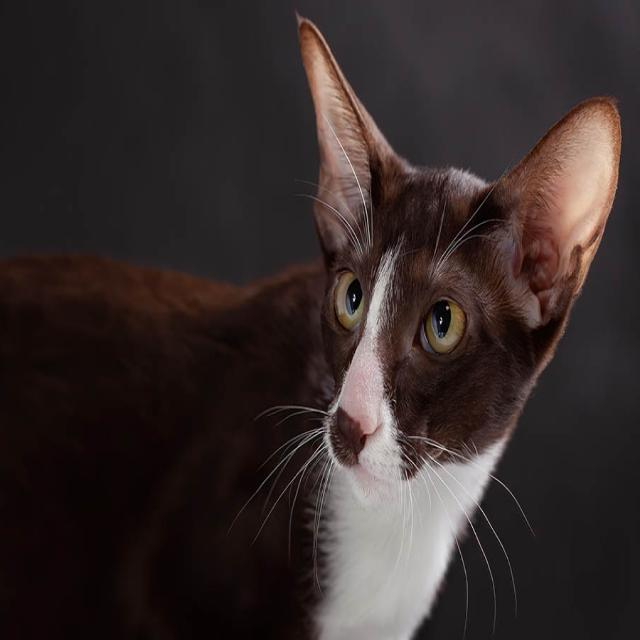Oriental: (0, 13, 626, 640)
